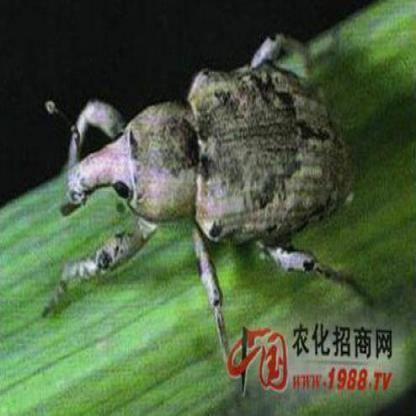rice-bug: (65, 36, 349, 262)
